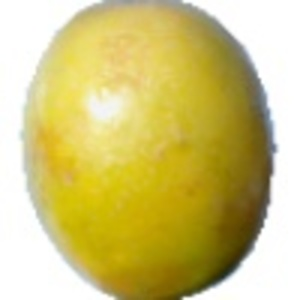maracujá: (18, 1, 280, 300)
